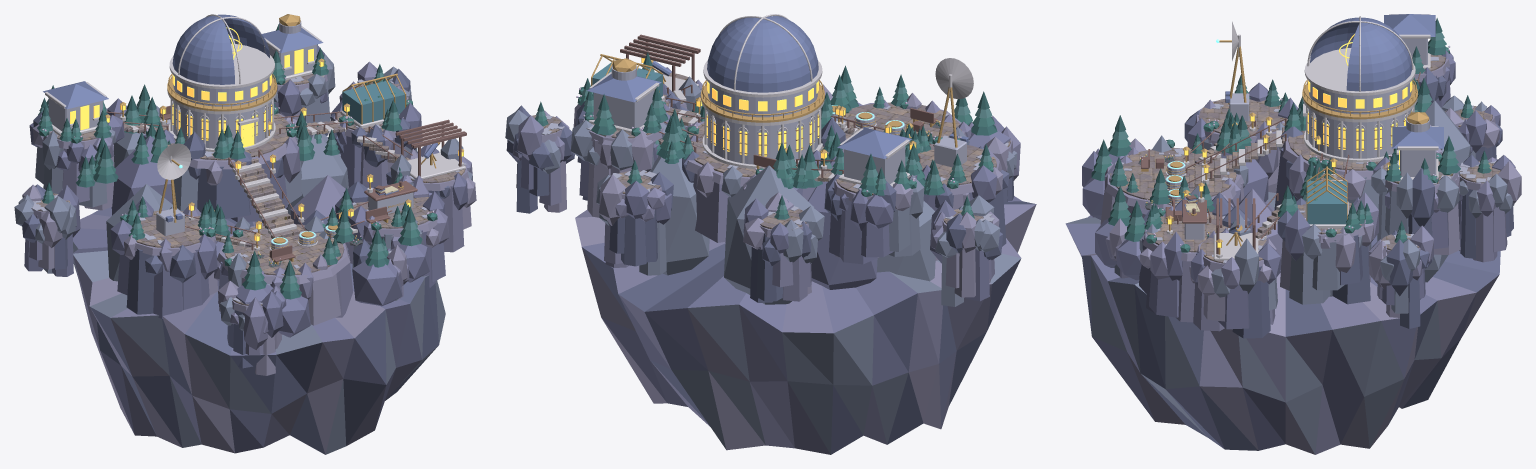
The model's file is campus.meshopt.glb.
3 views of the same model, side by side, from view 1: azimuth 30°, elevation 25°; view 2: azimuth 150°, elevation 25°; view 3: azimuth 270°, elevation 25° (orthographic). The views are drawn at different scales.
Parts seen in each view (by area): view 1: Campus / Basalt 1, Campus / Basalt 0, Campus / Basalt 4, Campus / Basalt 3, Campus / Basalt 2, Campus / Pale stone trim, Campus / Slate paving, Campus / Moonwashed limestone, Campus / Pine 0, Campus / Indigo enamel, Campus / Pine 1, Campus / Cedar timber (+4 smaller); view 2: Campus / Basalt 4, Campus / Basalt 1, Campus / Basalt 0, Campus / Basalt 2, Campus / Basalt 3, Campus / Indigo enamel, Campus / Moonwashed limestone, Campus / Pine 0, Campus / Pale stone trim, Campus / Slate paving, Campus / Pine 1, Campus / Aged brass (+3 smaller); view 3: Campus / Basalt 4, Campus / Basalt 1, Campus / Basalt 0, Campus / Basalt 3, Campus / Basalt 2, Campus / Slate paving, Campus / Moonwashed limestone, Campus / Pale stone trim, Campus / Indigo enamel, Campus / Pine 0, Campus / Aged brass, Campus / Pine 1 (+4 smaller).
Boxes of the visible parts, box(x1,y1,x2,y2) form: Campus / Basalt 1: box(24, 80, 468, 453); Campus / Basalt 0: box(22, 45, 450, 454); Campus / Basalt 4: box(14, 54, 472, 454); Campus / Basalt 3: box(22, 74, 476, 454); Campus / Basalt 2: box(29, 61, 472, 447); Campus / Pale stone trim: box(45, 14, 465, 250); Campus / Slate paving: box(36, 73, 465, 305); Campus / Moonwashed limestone: box(31, 21, 466, 304); Campus / Pine 0: box(37, 24, 422, 299); Campus / Indigo enamel: box(43, 14, 438, 222); Campus / Pine 1: box(38, 63, 437, 291); Campus / Cedar timber: box(106, 105, 466, 262); Campus / Basalt 4: box(505, 76, 1020, 454); Campus / Basalt 1: box(520, 67, 1022, 428); Campus / Basalt 0: box(506, 83, 1036, 454); Campus / Basalt 2: box(513, 79, 1035, 454); Campus / Basalt 3: box(536, 81, 1036, 450); Campus / Indigo enamel: box(587, 16, 968, 159); Campus / Moonwashed limestone: box(518, 65, 1008, 230); Campus / Pine 0: box(537, 52, 997, 219); Campus / Pale stone trim: box(588, 14, 973, 186); Campus / Slate paving: box(532, 72, 1010, 229); Campus / Pine 1: box(535, 74, 995, 214); Campus / Aged brass: box(591, 54, 957, 169); Campus / Basalt 4: box(1066, 95, 1514, 454); Campus / Basalt 1: box(1066, 50, 1515, 450); Campus / Basalt 0: box(1082, 42, 1513, 450); Campus / Basalt 3: box(1084, 58, 1521, 454); Campus / Basalt 2: box(1069, 99, 1507, 454); Campus / Slate paving: box(1110, 54, 1500, 263); Campus / Moonwashed limestone: box(1116, 38, 1496, 263); Campus / Pale stone trim: box(1165, 14, 1438, 260); Campus / Indigo enamel: box(1184, 14, 1443, 233); Campus / Pine 0: box(1091, 18, 1491, 242); Campus / Aged brass: box(1141, 40, 1429, 254); Campus / Pine 1: box(1094, 39, 1490, 252).
Size of the model in its own units: 30.39 by 25.45 by 27.56.
21 materials, 1 textured.
